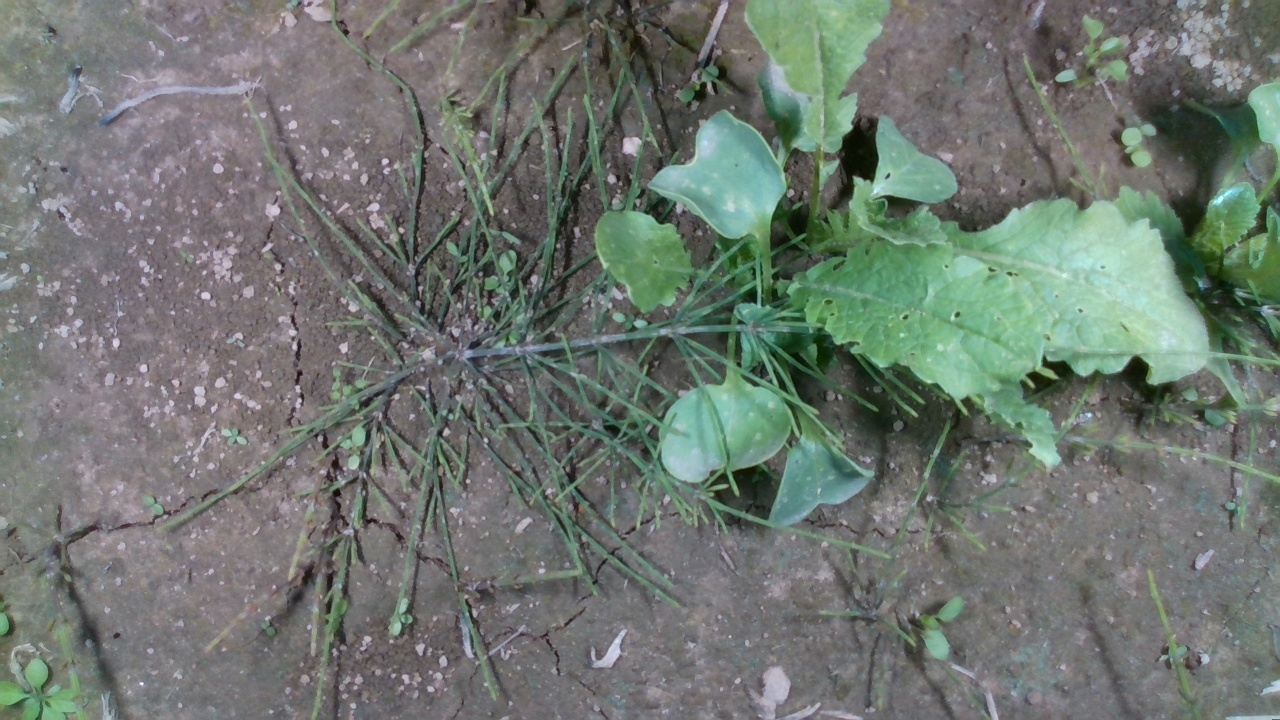weed: (219, 427, 249, 450), (140, 493, 164, 515)
